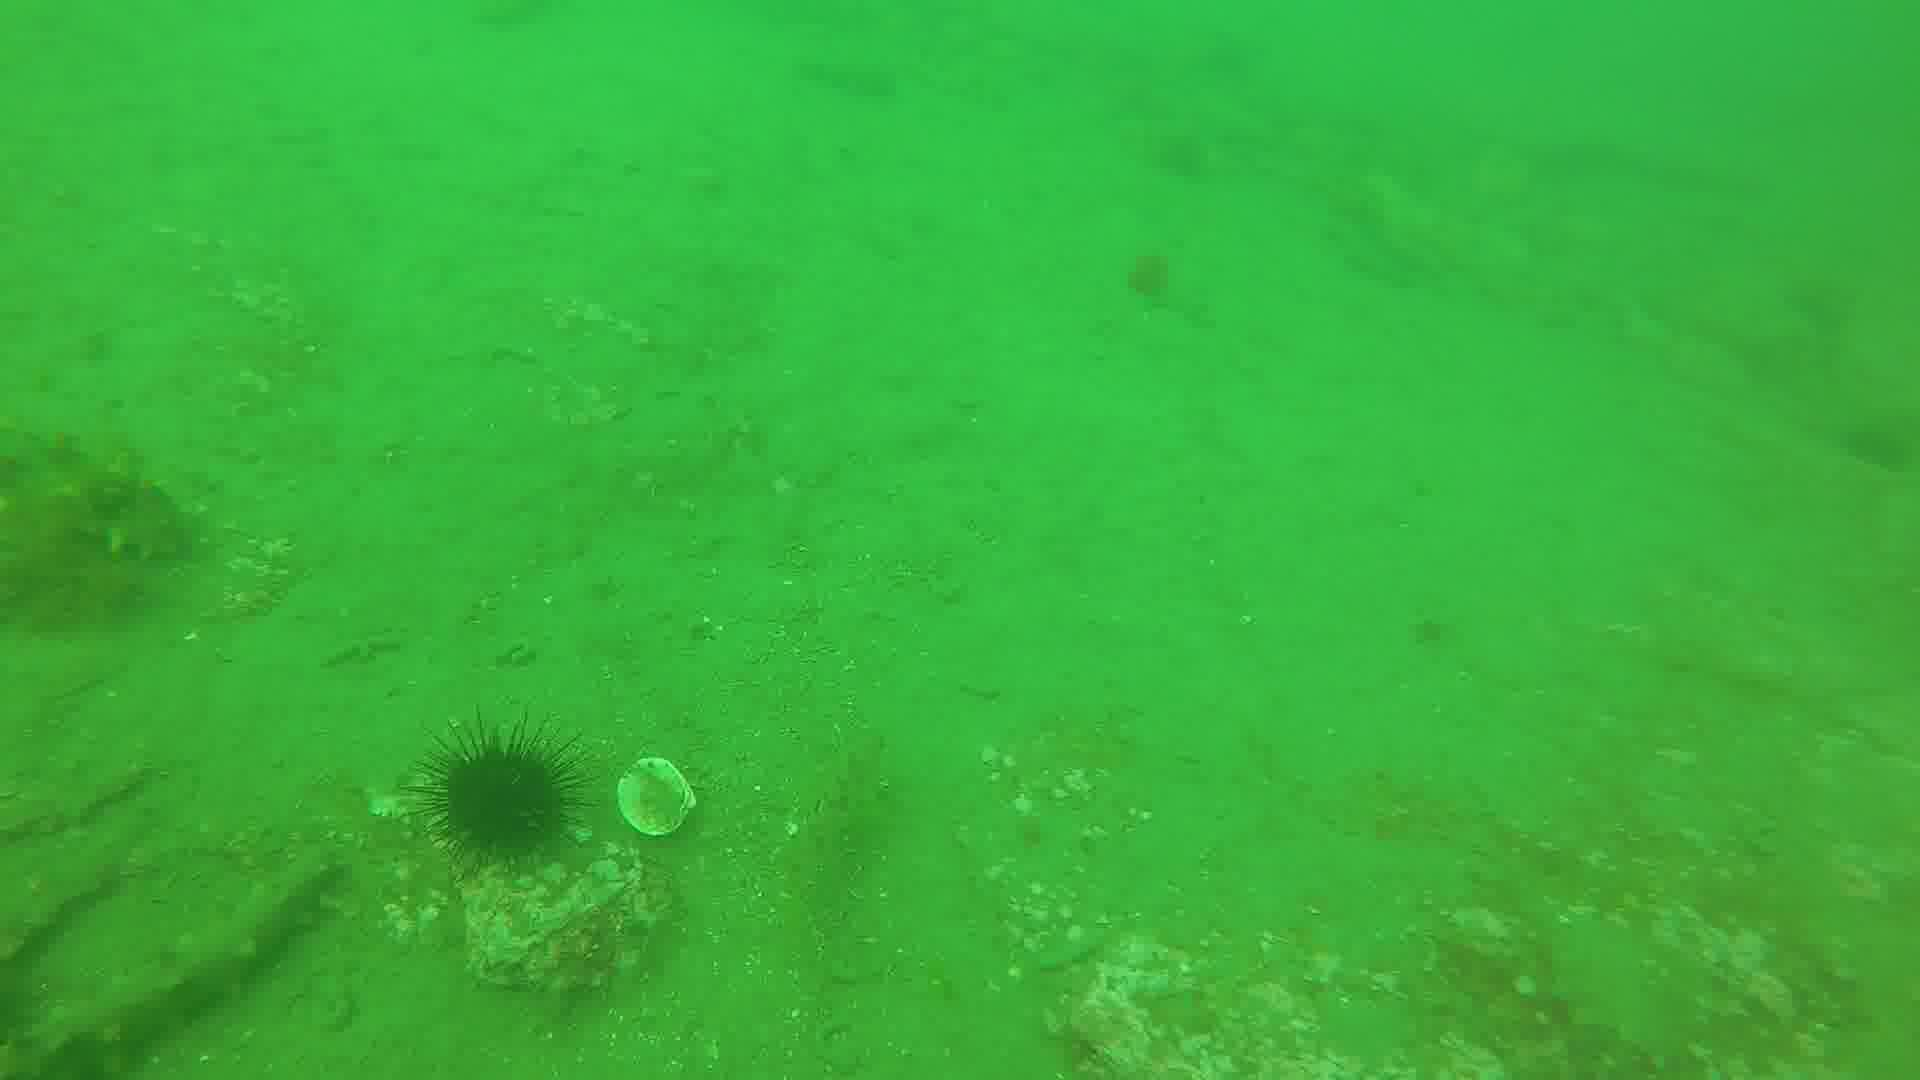echinus: (430, 738, 568, 858)
holothurian: (1, 844, 342, 1080), (1, 440, 200, 567)
scallop: (615, 756, 703, 843)
